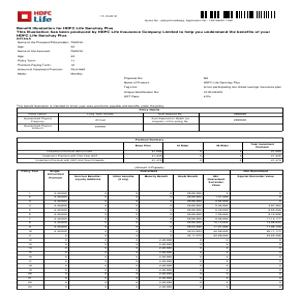image: (16, 9, 57, 25)
table: (18, 171, 283, 290), (17, 137, 283, 163), (16, 107, 282, 132)
text: (16, 25, 279, 76), (120, 77, 283, 100), (16, 103, 168, 107)
